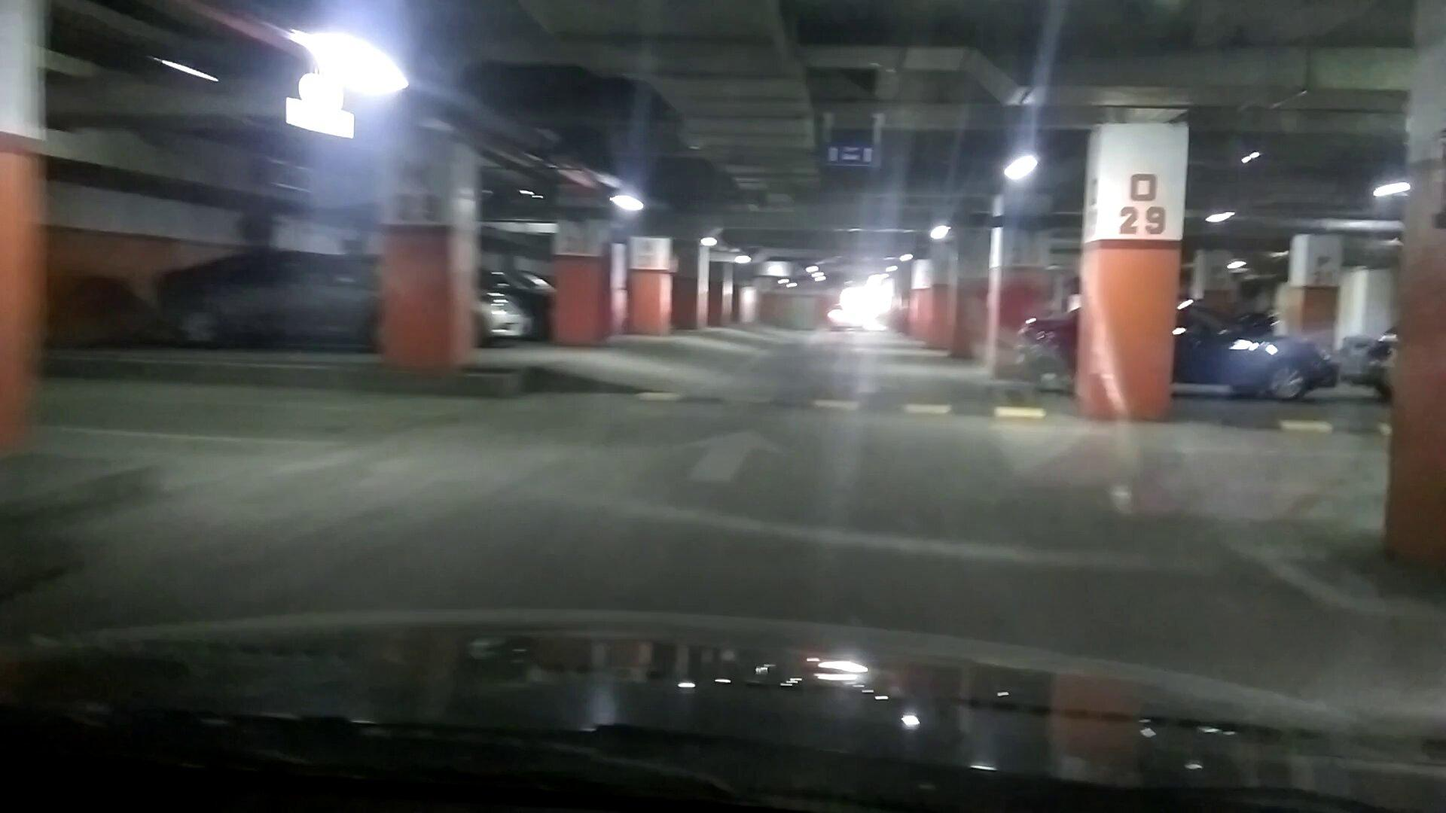Bump: (578, 384, 1079, 429)
